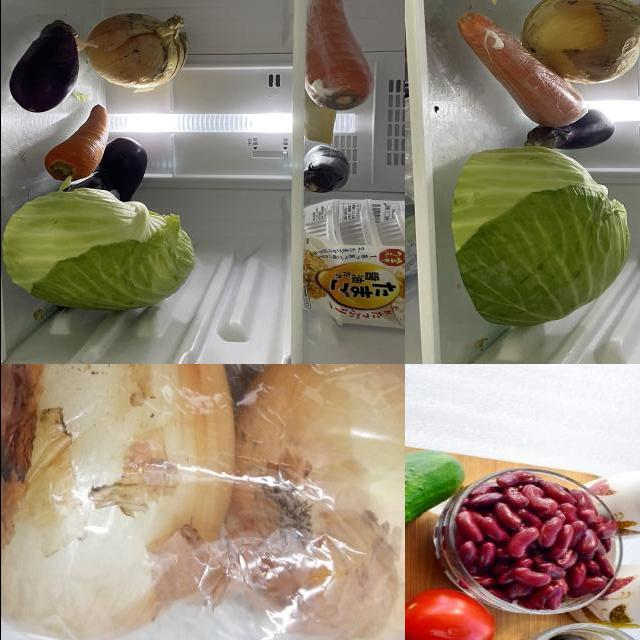cabbage: (450, 147, 631, 345), (2, 187, 194, 314)
carrot: (464, 17, 588, 128), (310, 1, 375, 112), (43, 103, 111, 184)
cucumber: (405, 444, 452, 600)
eggplant: (7, 20, 83, 112), (530, 111, 617, 156), (95, 139, 150, 203), (298, 148, 353, 197)
onion: (1, 365, 238, 640), (229, 365, 405, 640), (525, 1, 640, 85), (84, 9, 192, 91)
tomato: (408, 592, 496, 640)
